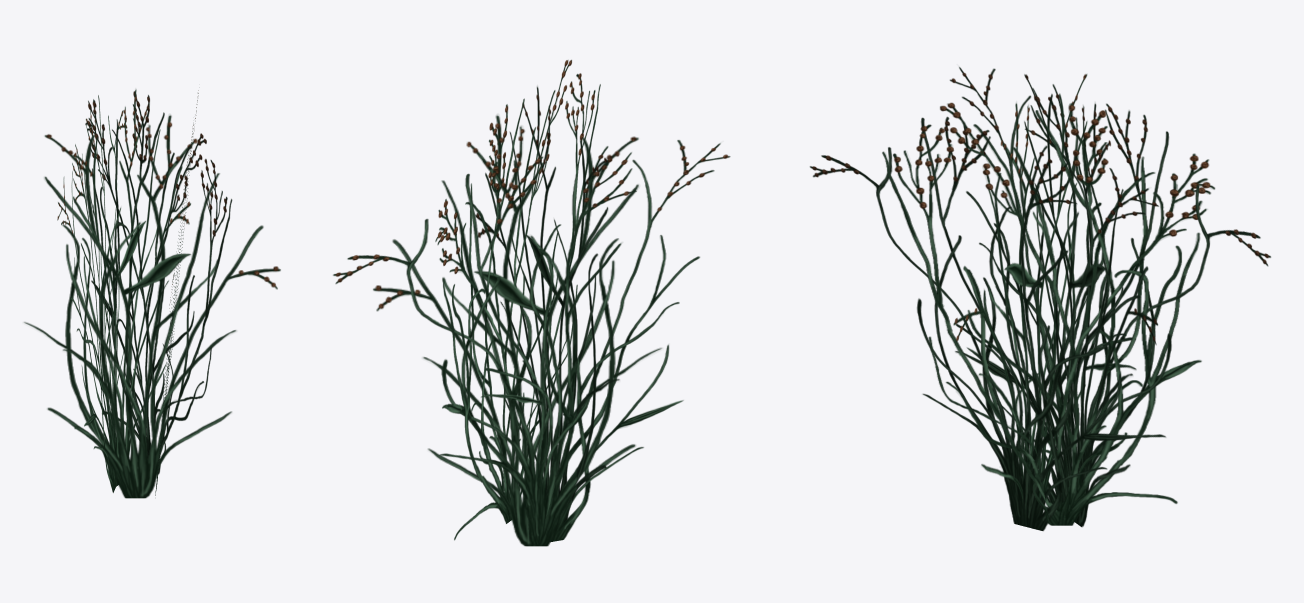
The model's file is borage.glb.
3 views of the same model, side by side, from view 1: azimuth 30°, elevation 25°; view 2: azimuth 150°, elevation 25°; view 3: azimuth 270°, elevation 25° (orthographic). The views are drawn at different scales.
Parts seen in each view (by area): view 1: Object_3; view 2: Object_3; view 3: Object_3.
Boxes of the visible parts, x1,y1,x2,y2 form: Object_3: (24, 89, 280, 498); Object_3: (333, 60, 730, 546); Object_3: (810, 67, 1270, 530).
Size of the model in its own units: 5.03 by 7.71 by 7.59.
Materials: 1 (1 with a texture image).
